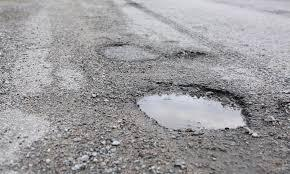pothole: (131, 78, 255, 133)
